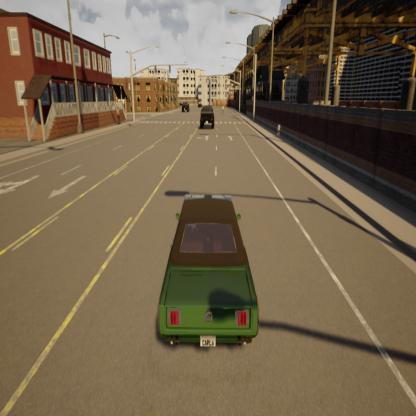Cars: (146, 183, 272, 358), (181, 98, 190, 114)
Pedestrian: (115, 104, 122, 127), (276, 120, 284, 140)
